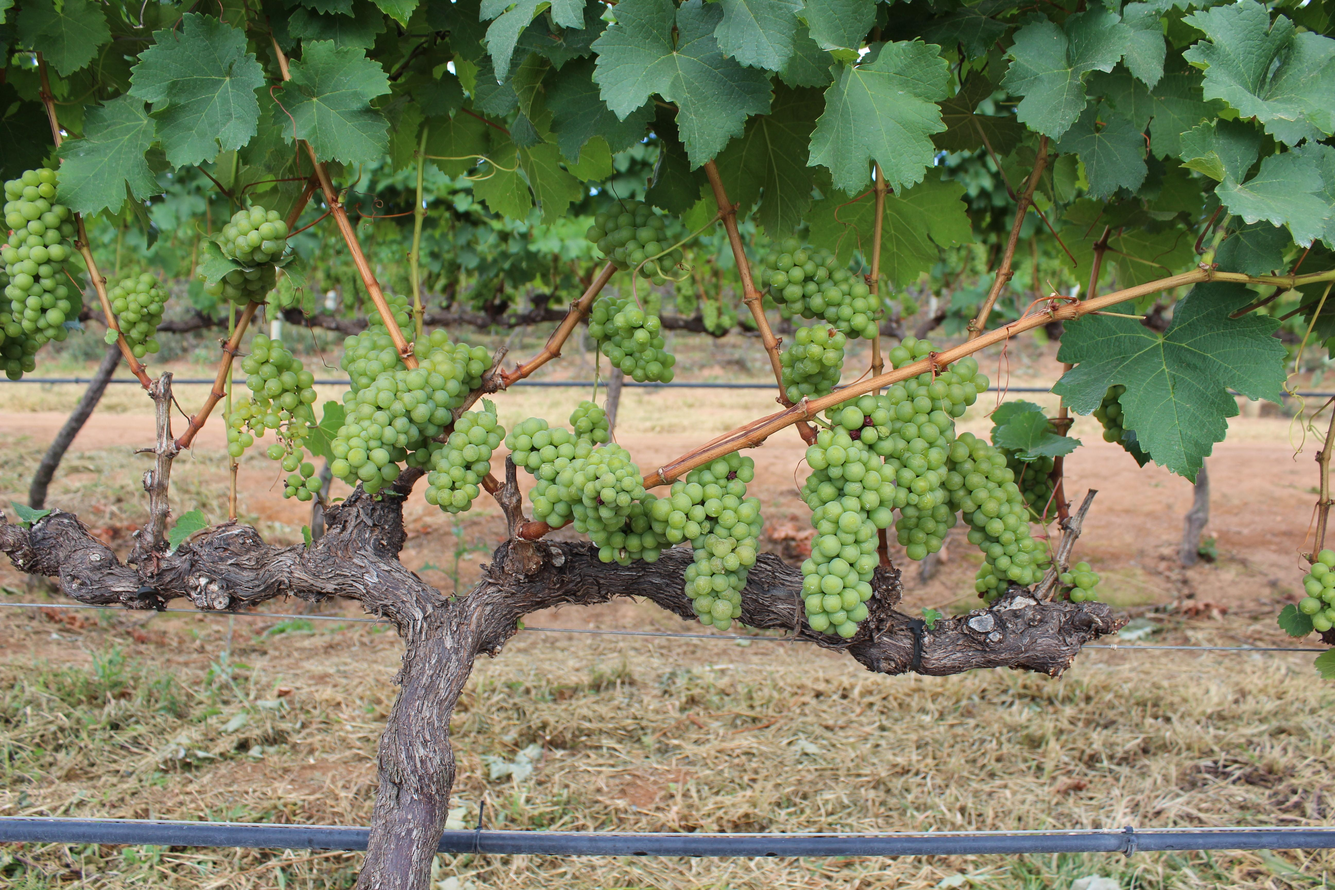leaf: (1052, 283, 1286, 479), (594, 0, 770, 166), (1183, 0, 1335, 145), (809, 41, 949, 194), (130, 13, 264, 166), (1002, 8, 1131, 138), (716, 85, 823, 237), (277, 41, 390, 163), (58, 95, 163, 213), (1216, 152, 1335, 246), (545, 58, 653, 160), (881, 176, 973, 286), (1056, 103, 1148, 198), (932, 72, 1025, 157), (480, 0, 585, 72), (17, 0, 111, 76), (715, 0, 802, 71), (473, 130, 533, 219), (519, 142, 583, 224), (806, 185, 874, 261), (0, 83, 53, 179), (1180, 120, 1262, 181), (991, 408, 1081, 461), (288, 0, 385, 49), (1215, 221, 1291, 275), (1121, 2, 1166, 89), (800, 0, 876, 50), (779, 25, 833, 88), (305, 401, 345, 460), (167, 509, 209, 551), (1277, 603, 1313, 638), (375, 0, 419, 27), (11, 500, 52, 527), (1314, 648, 1335, 679), (297, 10, 304, 12), (1033, 406, 1038, 408), (1023, 403, 1031, 404), (1332, 650, 1335, 651), (869, 54, 870, 55)
